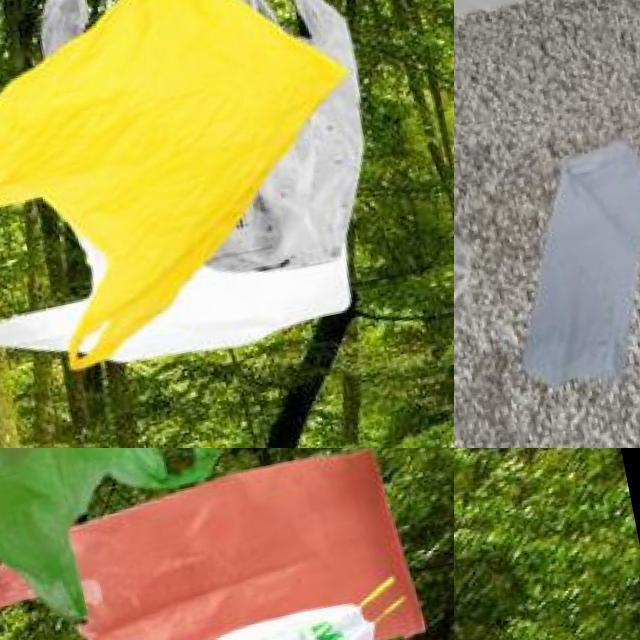waste: (0, 0, 397, 395), (0, 448, 238, 628), (484, 132, 640, 389)
